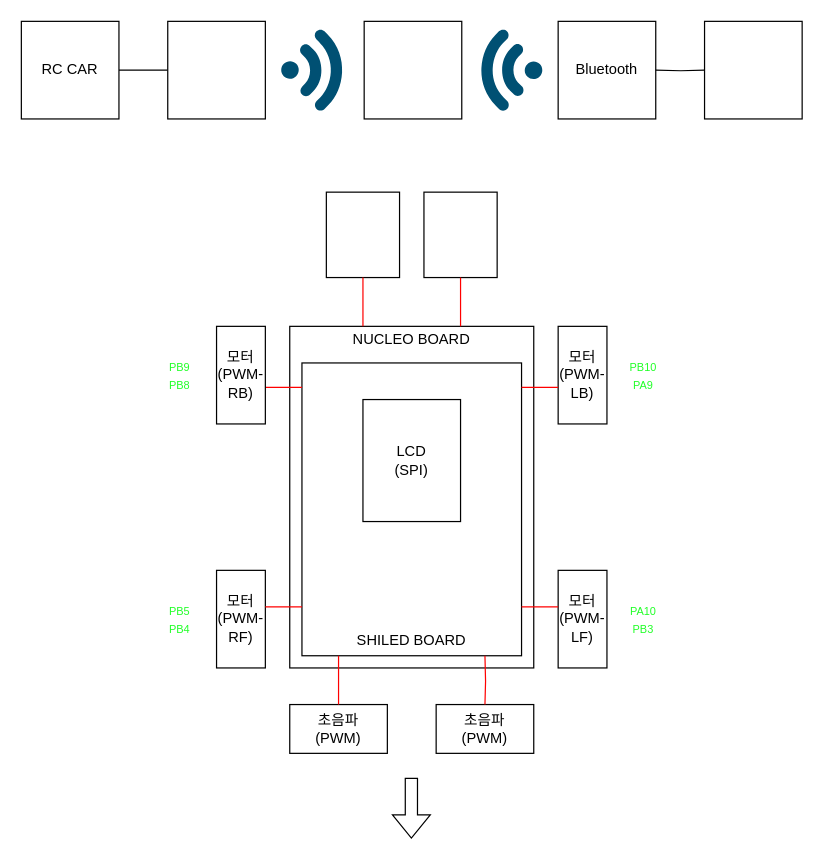
Image size: 824x860. Some labels were removed from this diagram. Each missing label, with the centre of its shape:
DHT11 (ADC): the point at 362,234
joystick (차량 제어): the point at 752,69
WEB (센서 값 디스플레이): the point at 412,69
WiFi: the point at 216,69
Wifi Module (UART3): the point at 460,234
